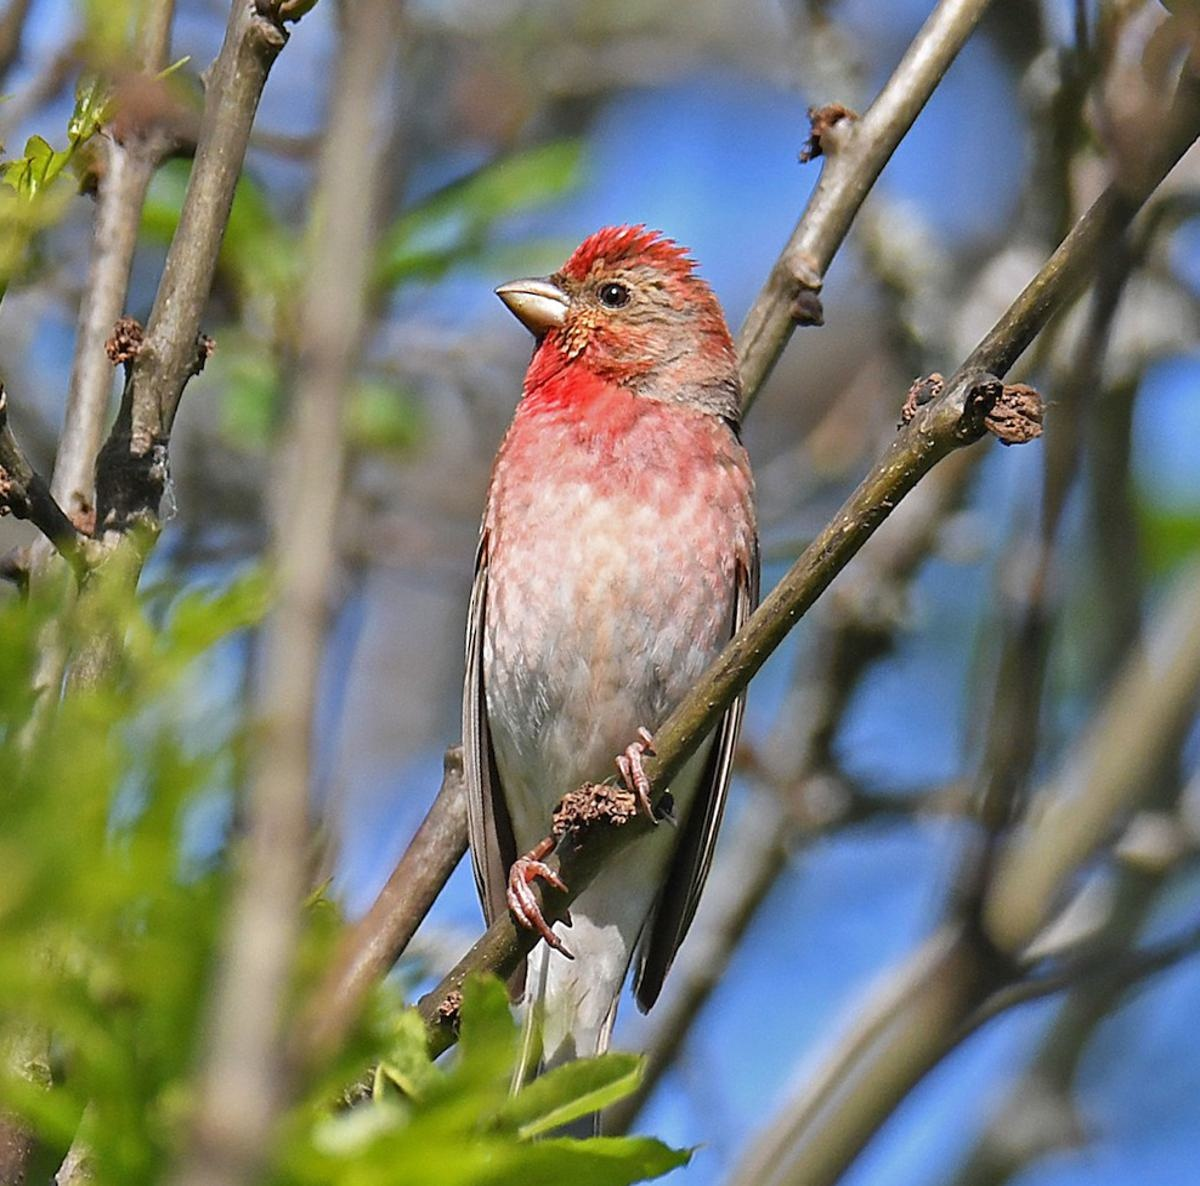rosefinch: (488, 220, 791, 918)
